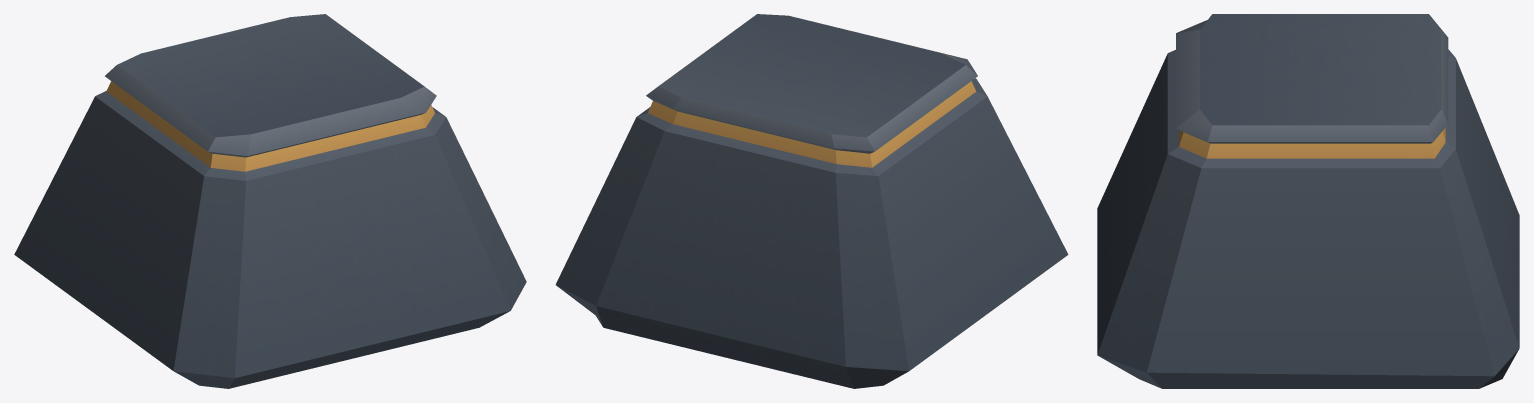
Rendered from Alien_blockC.FBX.
The picture shows the model from 3 angles, left to right: view 1: azimuth 30°, elevation 25°; view 2: azimuth 150°, elevation 25°; view 3: azimuth 270°, elevation 25°; orthographic projection. The views are drawn at different scales.
Visible parts, largest first — view 1: Alien_blockC; view 2: Alien_blockC; view 3: Alien_blockC.
Part boxes in pixels (left/top/right/bottom): Alien_blockC: left=14, top=14, right=526, bottom=388; Alien_blockC: left=555, top=14, right=1068, bottom=388; Alien_blockC: left=1097, top=14, right=1519, bottom=388.
Size of the model in its own units: 5.04 by 3.02 by 4.76.
